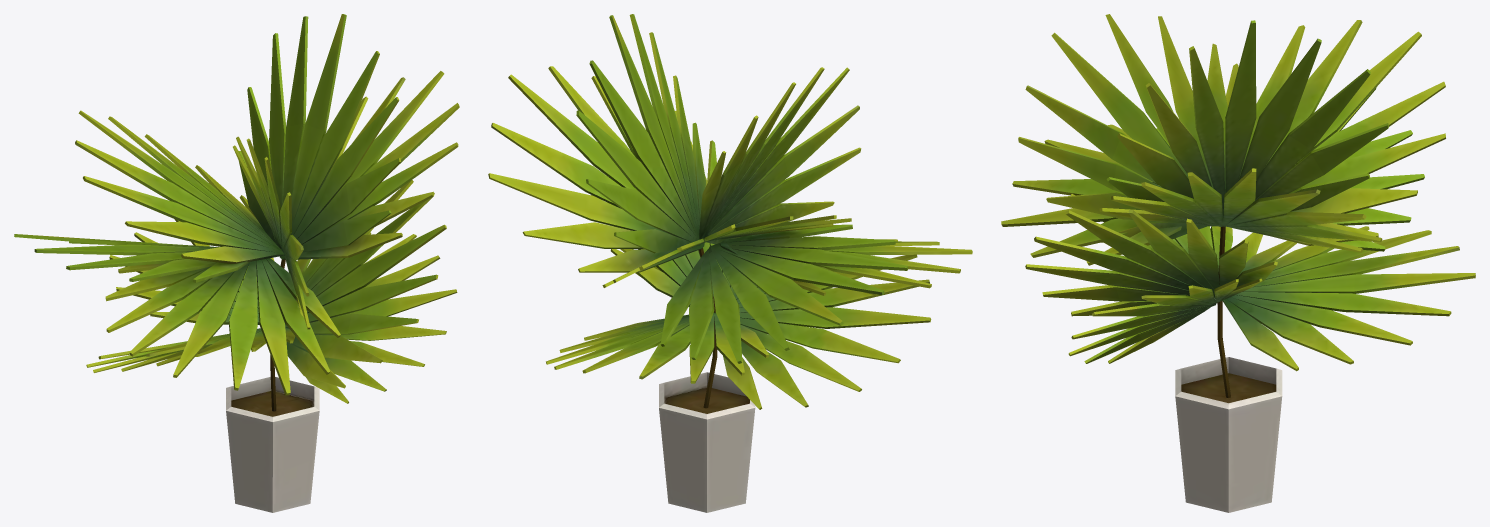
Rendered from plant_palm.glb.
3 renders of one model, left to right at view 1: azimuth 30°, elevation 25°; view 2: azimuth 150°, elevation 25°; view 3: azimuth 270°, elevation 25°, orthographic. The views are drawn at different scales.
Visible parts, largest first — view 1: UmbrellaPalmTree_mesh; view 2: UmbrellaPalmTree_mesh; view 3: UmbrellaPalmTree_mesh.
Part boxes in pixels (<box>): UmbrellaPalmTree_mesh: <box>14,14,459,512</box>; UmbrellaPalmTree_mesh: <box>488,14,972,512</box>; UmbrellaPalmTree_mesh: <box>1001,14,1475,512</box>.
Size of the model in its own units: 8.24 by 9.23 by 7.69.
Materials: 1 (1 with a texture image).
